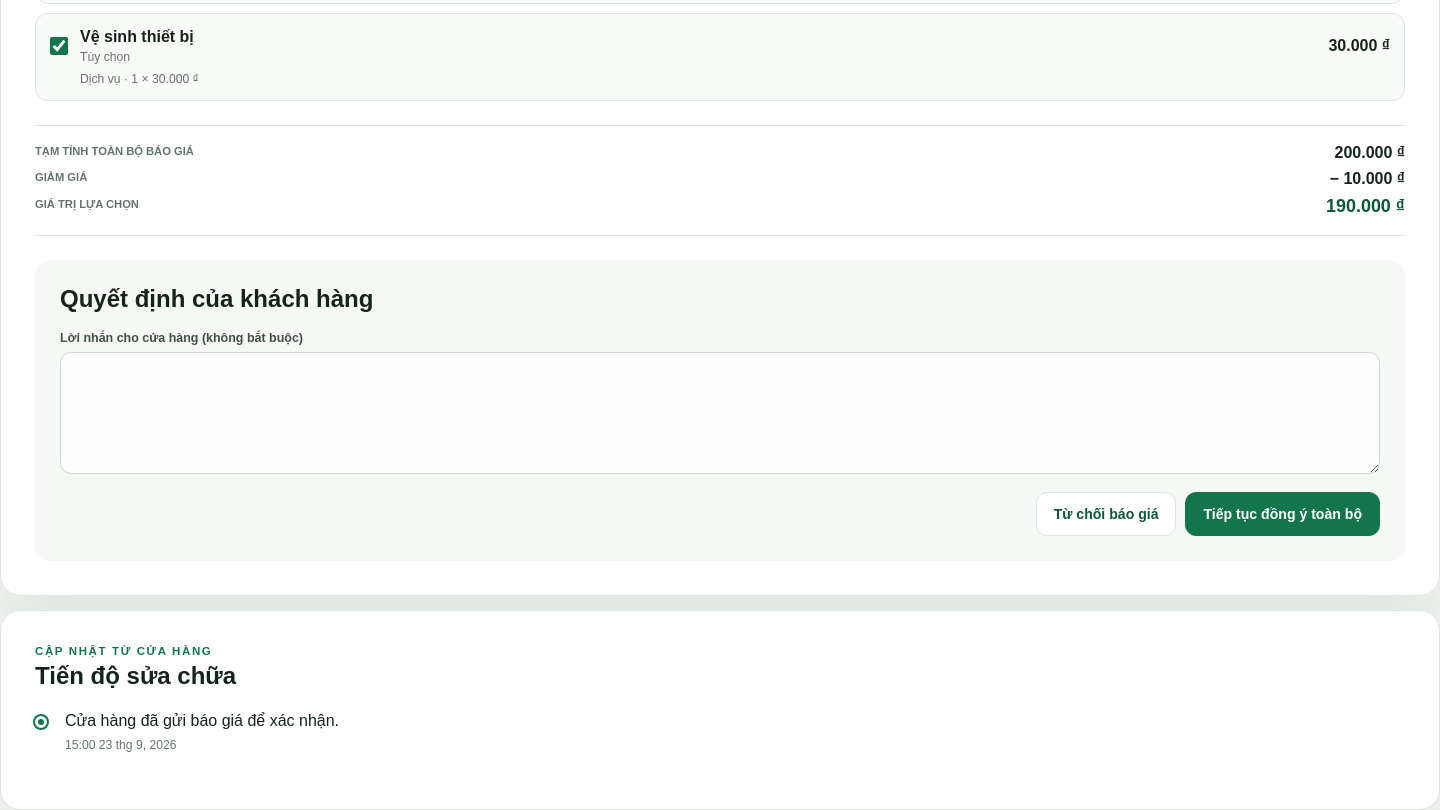
Test: PublicQuotePortalScreen › reloads a final decision when a concurrent submit reports already decided
The image size is (1440, 810).
(page scrolled)
What coordinates should you click on to do the following:
click the button "Tiếp tục đồng ý toàn bộ"
I would click on:
 (1283, 514)
Its box is [1186, 492, 1380, 536].
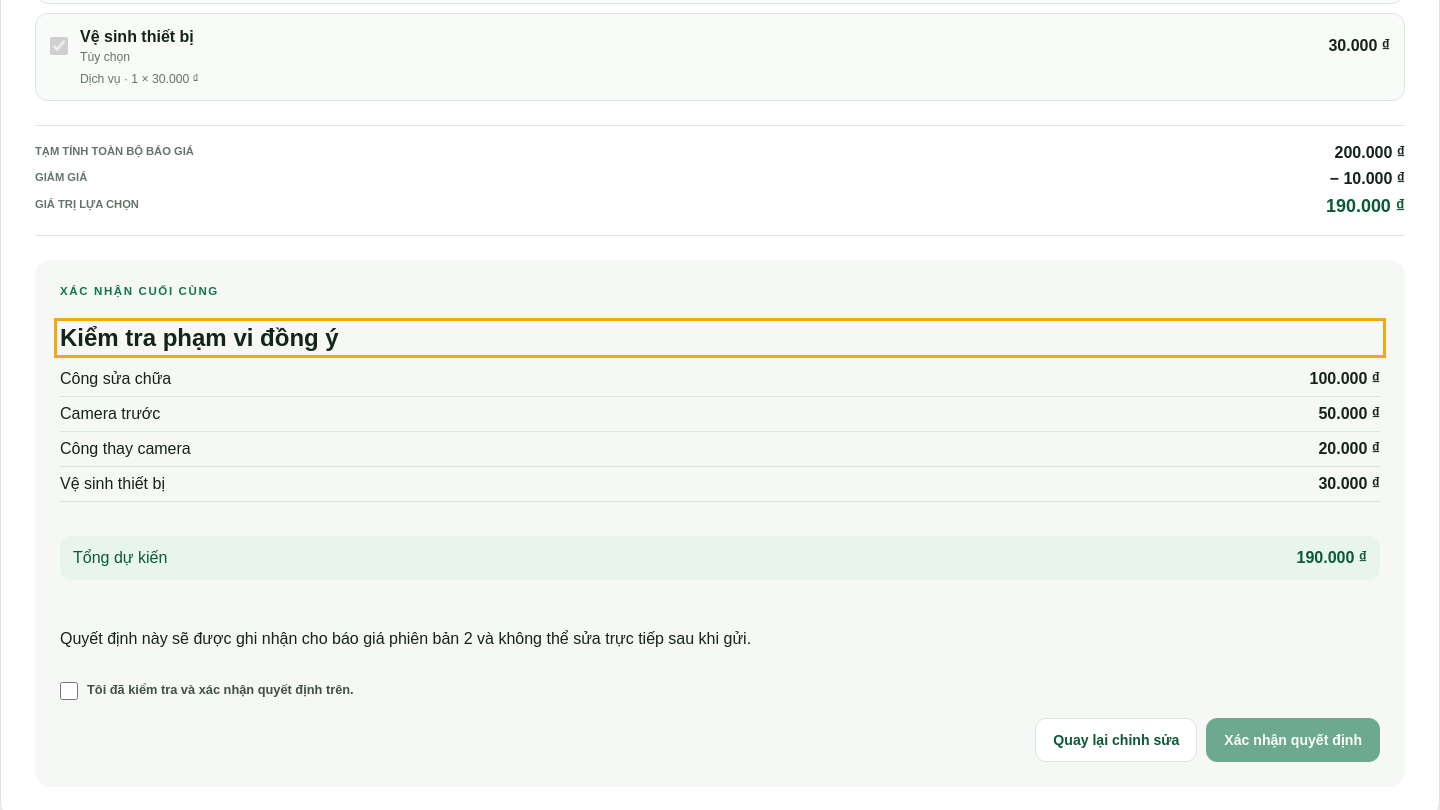
What coordinates should you click on to do the following:
click the checkbox labelled "Tôi đã kiểm tra và xác nhận quyết định trên."
I would click on:
 (69, 691)
Its box is [60, 682, 78, 700].
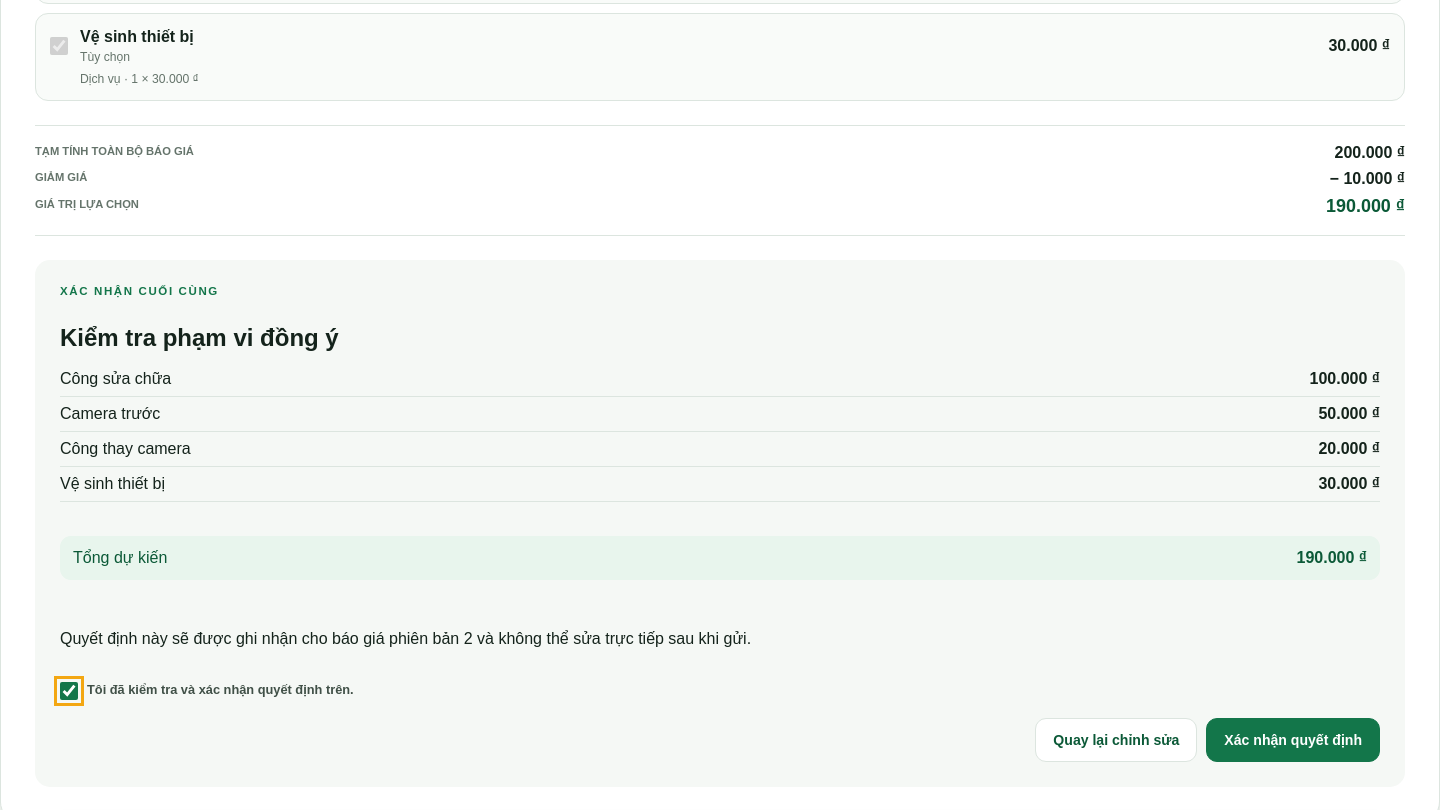
What coordinates should you click on to do the following:
click the button "Xác nhận quyết định"
I would click on:
 (1293, 740)
Its box is [1206, 718, 1380, 762].
(page scrolled)
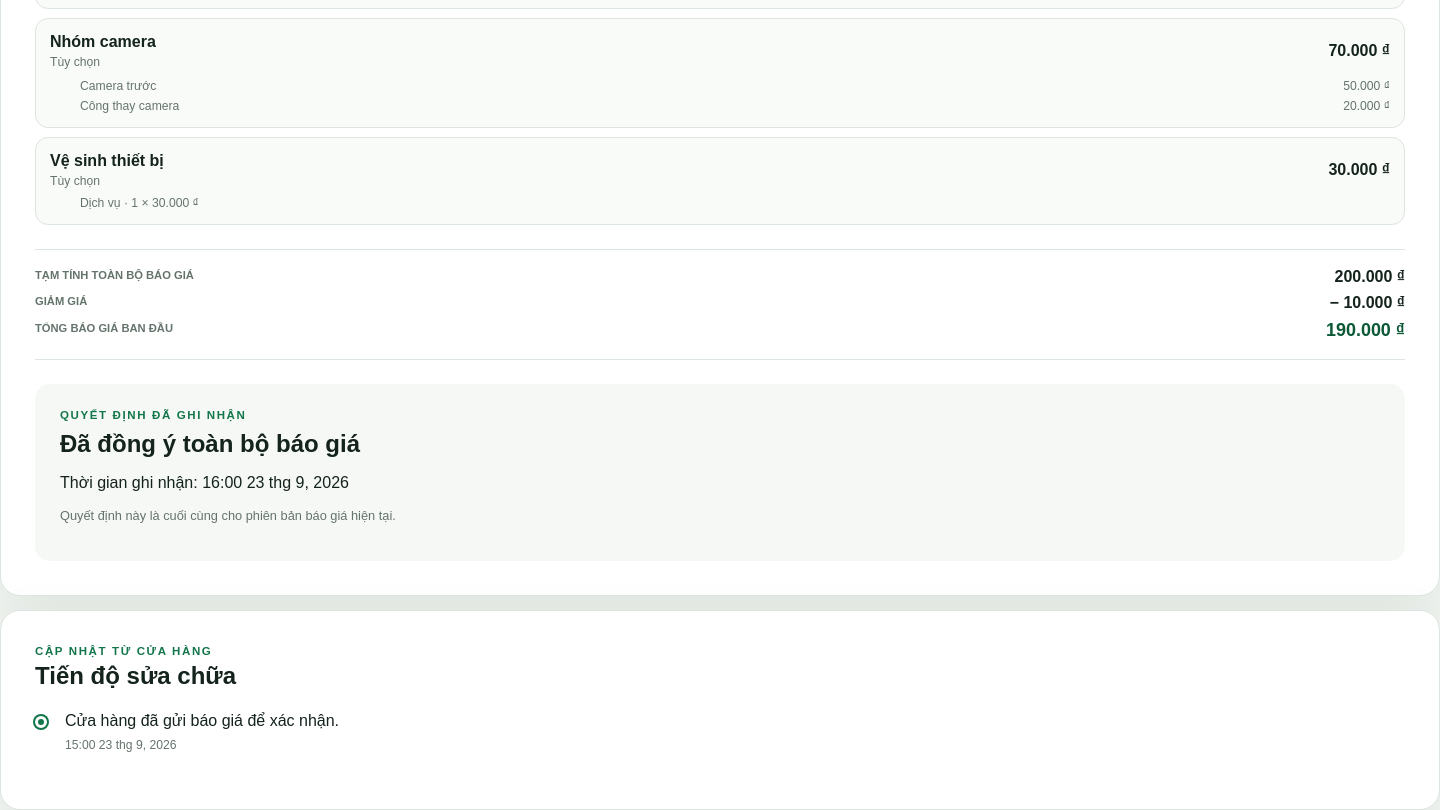
Expected: the heading "Đã đồng ý toàn bộ báo giá" is shown, [60, 430, 360, 457]
